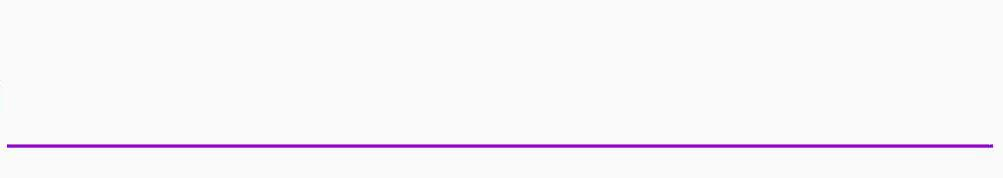EditText: (1, 1, 1002, 177)
